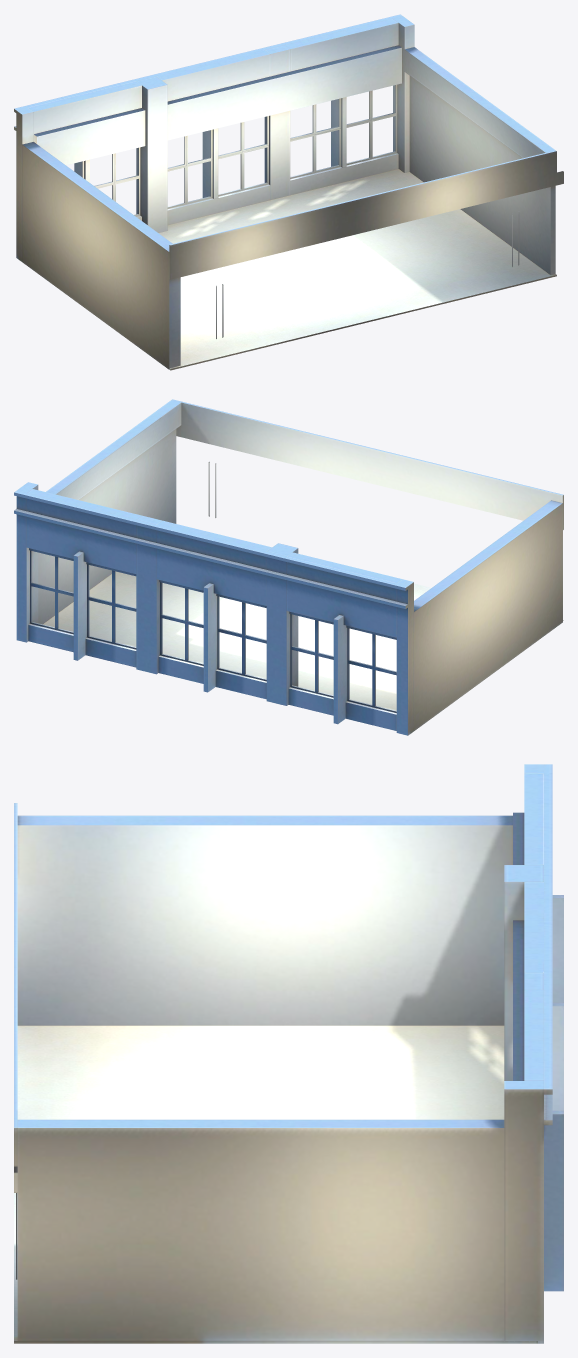
3 views of the same model, one above another, from view 1: azimuth 30°, elevation 25°; view 2: azimuth 150°, elevation 25°; view 3: azimuth 270°, elevation 25° (orthographic). The views are drawn at different scales.
Visible parts, largest first — view 1: hc_2floor_room013_0; view 2: hc_2floor_room013_0; view 3: hc_2floor_room013_0.
Part boxes in pixels (x1,y1,x2,y2): hc_2floor_room013_0: (14, 14, 563, 370); hc_2floor_room013_0: (14, 399, 563, 735); hc_2floor_room013_0: (14, 764, 563, 1343).
Bounding box in the file's own units: 1.38 × 0.4943 × 0.969.
1 material, 1 textured.
